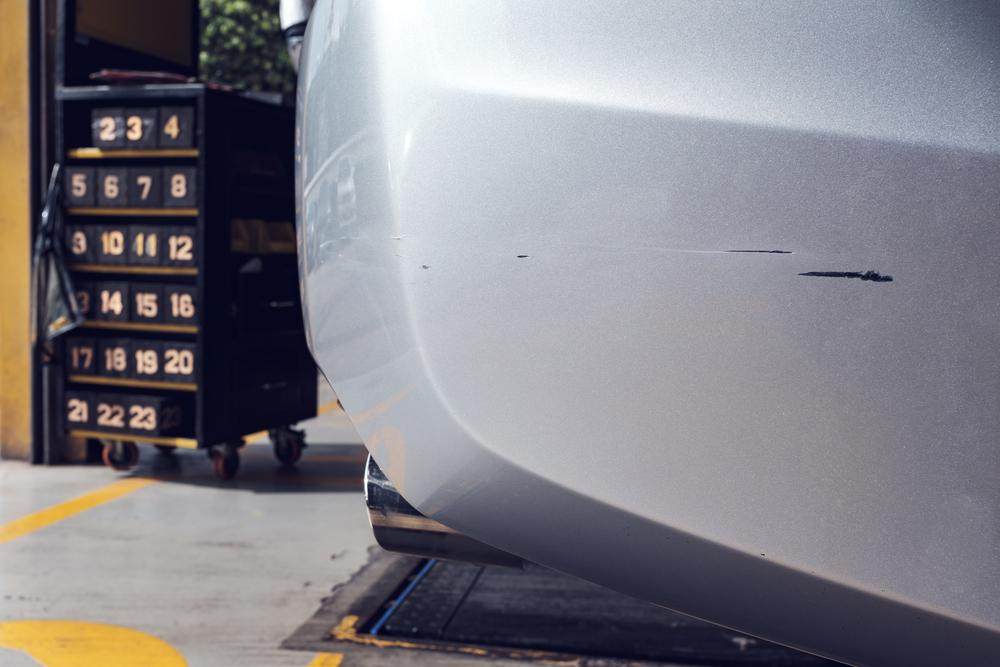scratch: (513, 245, 904, 285)
